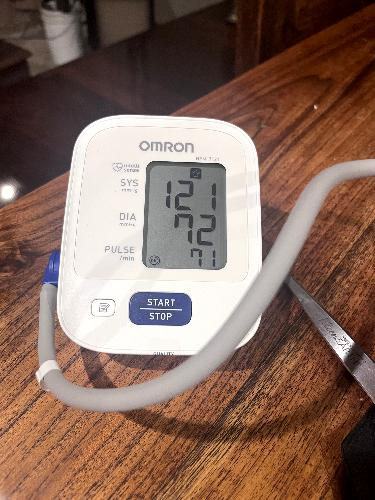bpm: (139, 155, 233, 273)
